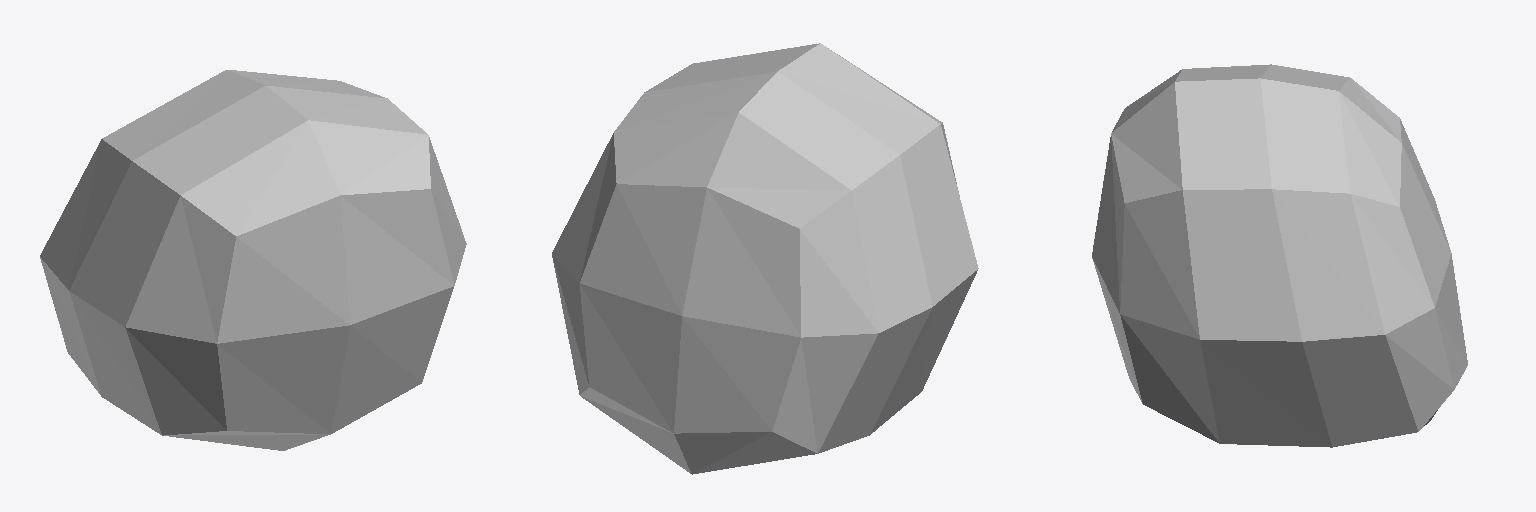
Rendered from rock2.obj.
3 renders of one model, left to right at view 1: azimuth 30°, elevation 25°; view 2: azimuth 150°, elevation 25°; view 3: azimuth 270°, elevation 25°, orthographic.
Parts seen in each view (by area): view 1: rock2; view 2: rock2; view 3: rock2.
Part boxes in pixels (left/top/right/bottom): rock2: left=40, top=70, right=466, bottom=450; rock2: left=552, top=43, right=978, bottom=474; rock2: left=1092, top=64, right=1467, bottom=447.
Bounding box in the file's own units: 0.767 × 0.7401 × 0.7111.